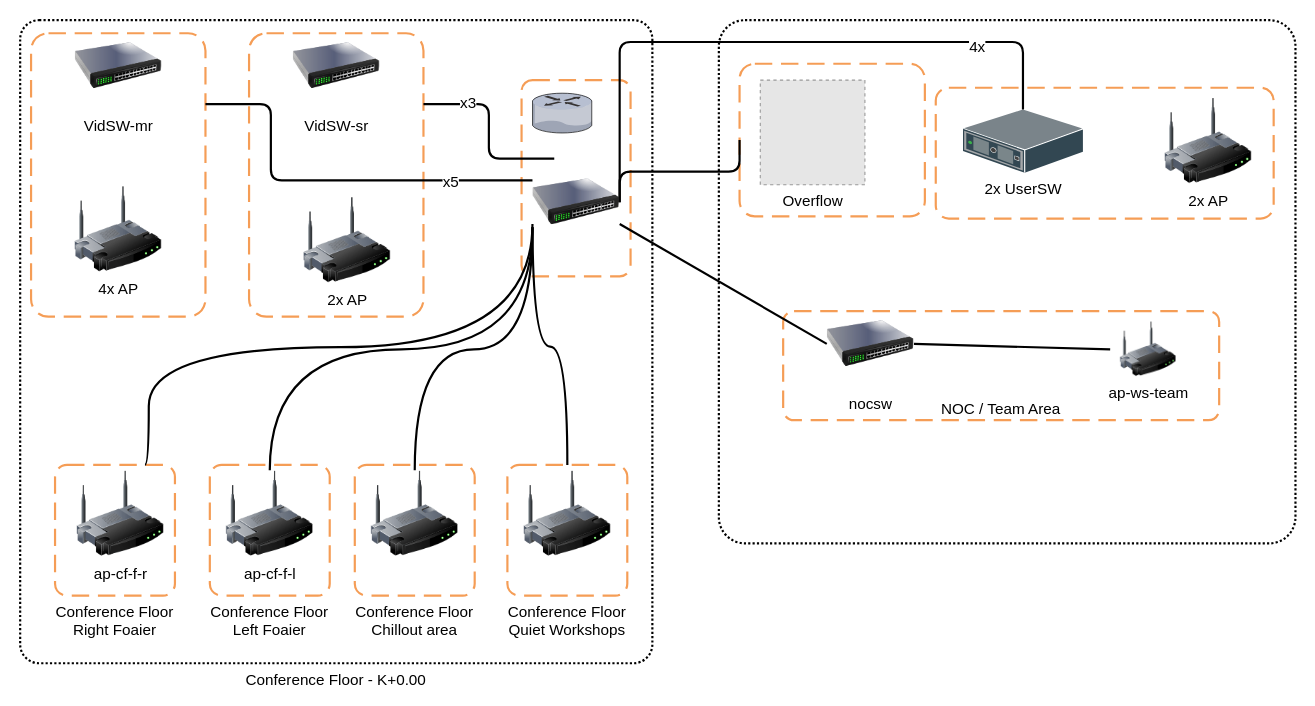
This 1315x706 diagram has some shape labels left out. Grey dashed boxes stand in for pictures. Each missing label, with the box of its shape:
ap-cf-ch: (371, 470, 458, 557)
ap-cf-qws: (523, 470, 610, 557)
CoreSW: (532, 158, 619, 245)
Main Room: (29, 32, 206, 317)
Overflow Area: (738, 62, 925, 217)
Secondary Room: (247, 32, 424, 317)
Server Room: (520, 78, 631, 277)
Workshop Area: (934, 86, 1274, 219)
Workshop Floor K-3.30: (717, 19, 1296, 544)
